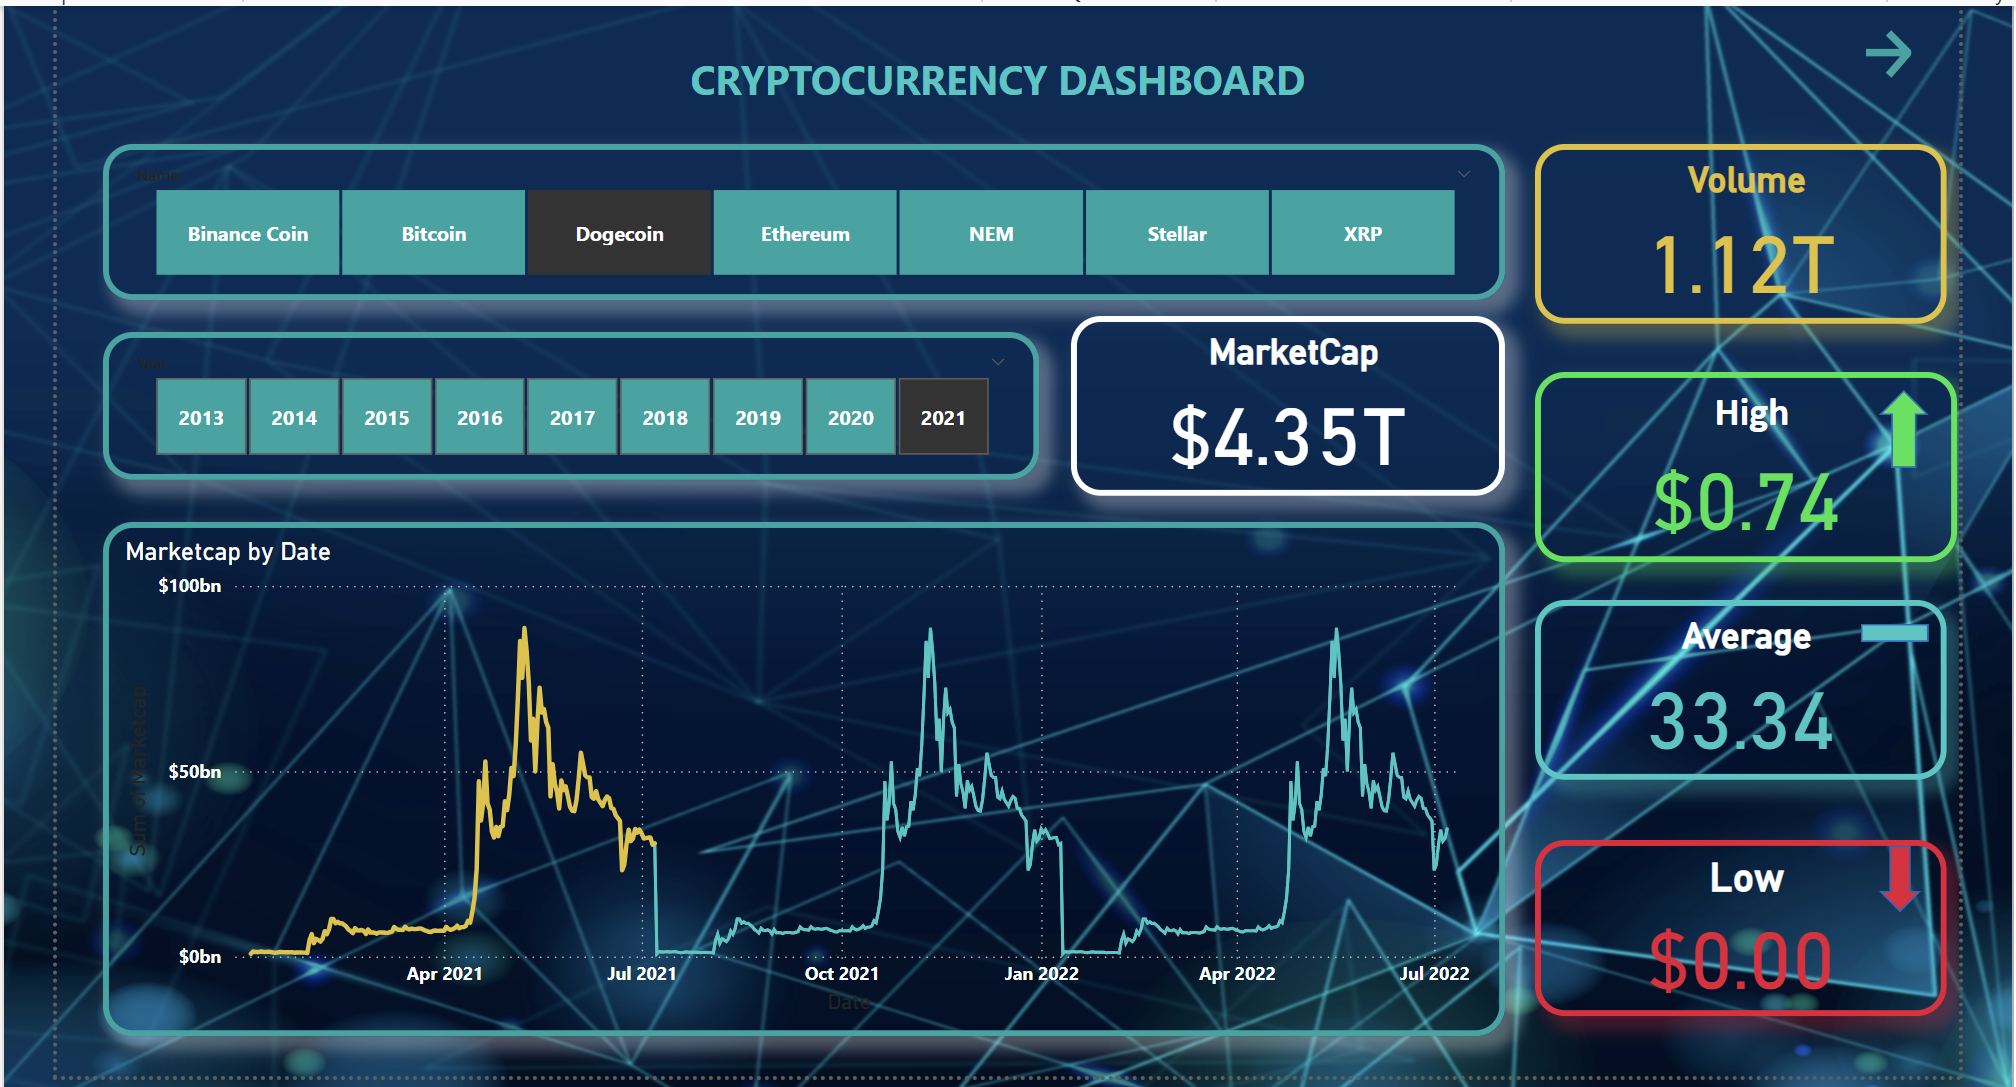

The page's visual inventory and layout, read from the dashboard file:
{"tool":"powerbi","page":{"name":"Page 1","canvas":[1280,720],"ordinal":0},"visuals":[{"type":"slicer","fields":{"Values":["Crypto_Project.Name"]},"box":[31,92.9,943.4,105],"z":0},{"type":"lineChart","title":"Marketcap by Date","fields":{"Y":["Sum(Crypto_Project.Marketcap)"],"Category":["Crypto_Project.Date"]},"box":[31,347.2,943.4,345.9],"z":1000},{"type":"slicer","fields":{"Values":["Crypto_Project.Year"]},"box":[31,219.4,629.8,99.6],"z":2000},{"type":"textbox","box":[421.2,25.6,438.7,53.8],"z":4000},{"type":"card","title":"MarketCap","fields":{"Values":["Sum(Crypto_Project.Marketcap)"]},"box":[682.3,208.6,292,121.1],"z":5000},{"type":"card","title":"Volume","fields":{"Values":["Sum(Crypto_Project.Volume)"]},"box":[994.5,92.9,277.2,121.1],"z":6000},{"type":"card","title":"High","fields":{"Values":["Max(Crypto_Project.High)"]},"box":[994.5,246.3,284,127.9],"z":7000},{"type":"card","title":"Average","fields":{"Values":["Sum(Crypto_Project.Average)"]},"box":[994.5,399.7,277.2,121.1],"z":8000},{"type":"card","title":"Low","fields":{"Values":["Min(Crypto_Project.Low)"]},"box":[994.5,561.2,277.2,118.4],"z":9000},{"type":"shape","box":[1226,258.4,33.6,52.5],"z":10000},{"type":"shape","box":[1226,565.2,28.3,44.4],"z":11000},{"type":"shape","box":[1213.9,415.9,45.8,12.1],"z":12000},{"type":"actionButton","box":[1211.2,12.1,68.6,40.4],"z":12001}]}

Visuals, with their boxes on the page's 1280x720 design canvas (x1, y1, x2, y2). These are canvas units, not pixel positions in the 2016x1087 screenshot, which may show the page scaled, cropped or inside an application window:
slicer - Crypto_Project.Name: [left=31, top=93, right=974, bottom=198]
"Marketcap by Date" lineChart: [left=31, top=347, right=974, bottom=693]
slicer - Crypto_Project.Year: [left=31, top=219, right=661, bottom=319]
textbox: [left=421, top=26, right=860, bottom=79]
"MarketCap" card: [left=682, top=209, right=974, bottom=330]
"Volume" card: [left=994, top=93, right=1272, bottom=214]
"High" card: [left=994, top=246, right=1278, bottom=374]
"Average" card: [left=994, top=400, right=1272, bottom=521]
"Low" card: [left=994, top=561, right=1272, bottom=680]
shape: [left=1226, top=258, right=1260, bottom=311]
shape: [left=1226, top=565, right=1254, bottom=610]
shape: [left=1214, top=416, right=1260, bottom=428]
actionButton: [left=1211, top=12, right=1280, bottom=52]
